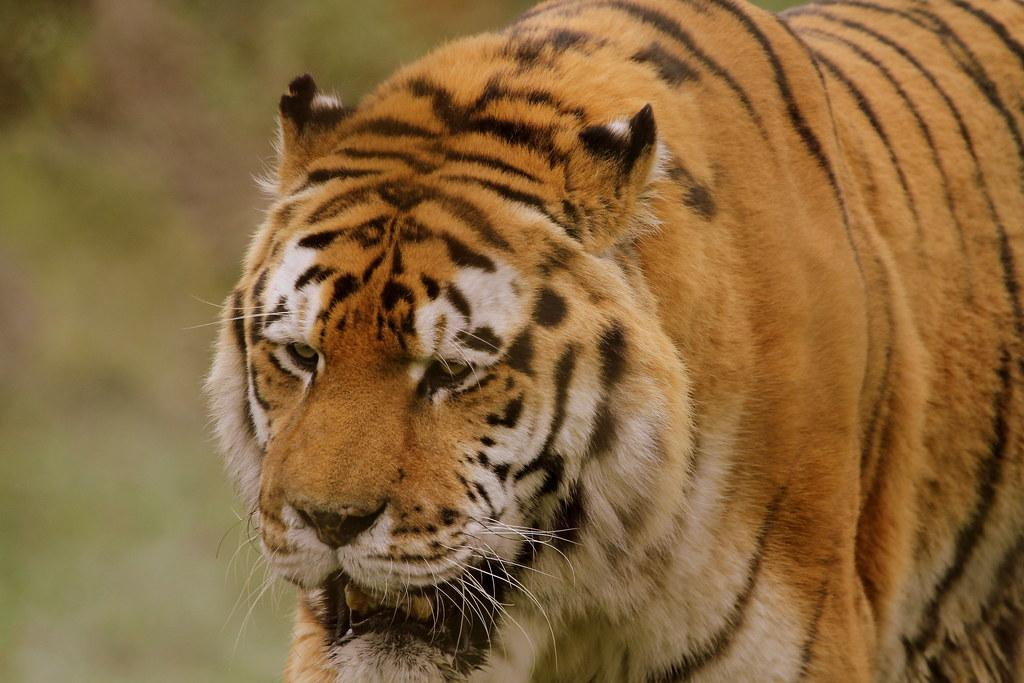tiger: (194, 1, 1023, 682)
